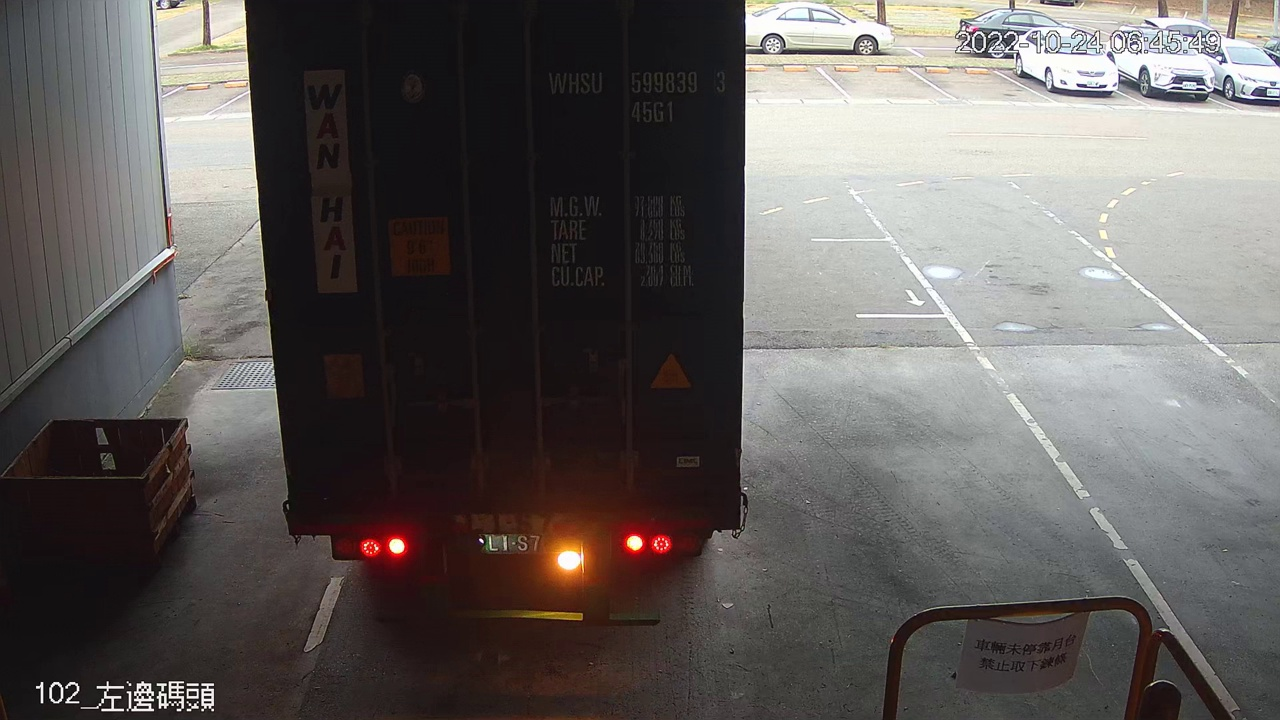container: (537, 56, 736, 134)
